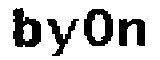0: (83, 4, 115, 52)
b: (9, 6, 43, 51)
n: (117, 15, 148, 50)
y: (44, 15, 80, 60)
